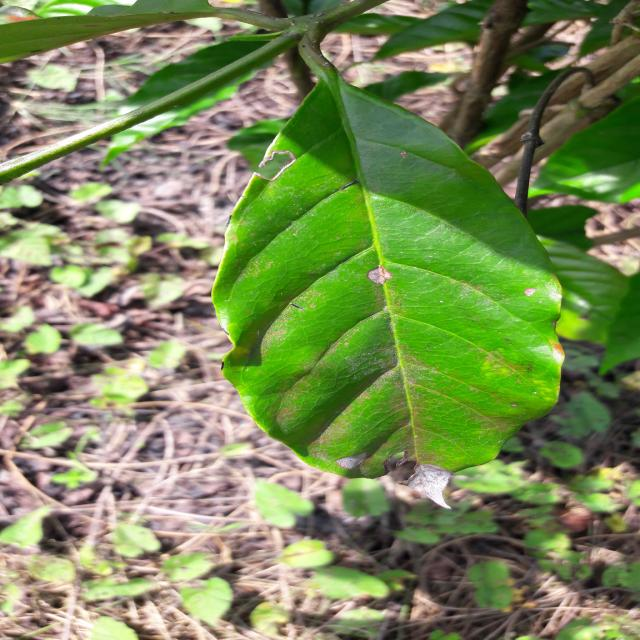Plaga-AranaRoja: (214, 71, 566, 508)
